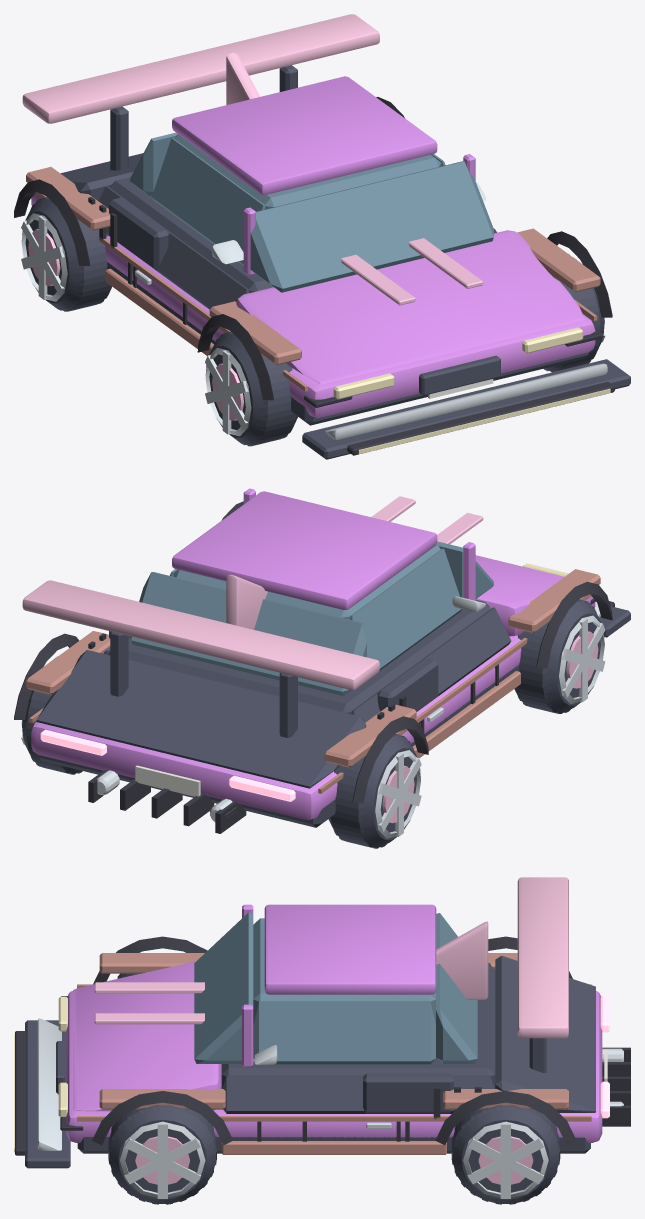
Rendered from laplight_lancer.fbx.
3 views of the same model, one above another, from view 1: azimuth 30°, elevation 25°; view 2: azimuth 150°, elevation 25°; view 3: azimuth 270°, elevation 25° (orthographic). The views are drawn at different scales.
Visible parts, largest first — view 1: Body, Glass, Trim2, Accent2, Accent, Trim, Metal, Accent3, Wheel_FR, Wheel_RR, Light, Light3 (+2 smaller); view 2: Trim2, Body, Glass, Accent2, Accent, Trim, Metal, Wheel_RR, Wheel_FR, Light2, Light3, Accent4 (+2 smaller); view 3: Body, Trim2, Glass, Accent2, Accent, Trim, Metal, Wheel_RL, Wheel_FL, Accent3, Light3, Metal2 (+2 smaller).
Part boxes in pixels (bbox=[...]): Body: bbox=[31, 76, 595, 417]; Glass: bbox=[129, 132, 493, 292]; Trim2: bbox=[60, 65, 630, 459]; Accent2: bbox=[22, 14, 379, 123]; Accent: bbox=[26, 167, 600, 391]; Trim: bbox=[14, 97, 614, 455]; Metal: bbox=[21, 213, 605, 436]; Accent3: bbox=[212, 182, 607, 439]; Wheel_FR: bbox=[206, 331, 297, 446]; Wheel_RR: bbox=[22, 197, 111, 311]; Light: bbox=[333, 327, 610, 454]; Light3: bbox=[340, 238, 483, 305]; Trim2: bbox=[36, 600, 630, 827]; Body: bbox=[31, 488, 595, 819]; Glass: bbox=[130, 496, 493, 695]; Accent2: bbox=[22, 574, 379, 689]; Accent: bbox=[26, 569, 600, 793]; Trim: bbox=[14, 501, 614, 833]; Metal: bbox=[21, 615, 605, 838]; Wheel_RR: bbox=[328, 734, 420, 848]; Wheel_FR: bbox=[514, 599, 604, 713]; Light2: bbox=[40, 729, 295, 801]; Light3: bbox=[371, 496, 483, 544]; Accent4: bbox=[135, 765, 200, 796]; Body: bbox=[66, 904, 602, 1142]; Trim2: bbox=[25, 955, 595, 1168]; Glass: bbox=[194, 912, 477, 1064]; Accent2: bbox=[253, 877, 568, 1061]; Accent: bbox=[77, 953, 591, 1154]; Trim: bbox=[15, 936, 630, 1155]; Metal: bbox=[120, 1048, 623, 1199]; Wheel_RL: bbox=[451, 1105, 560, 1204]; Wheel_FL: bbox=[108, 1105, 216, 1204]; Accent3: bbox=[37, 1018, 277, 1150]; Light3: bbox=[94, 982, 204, 1024]; Metal2: bbox=[135, 1136, 533, 1184].
Size of the model in its own units: 3.4 by 2 by 5.41.
